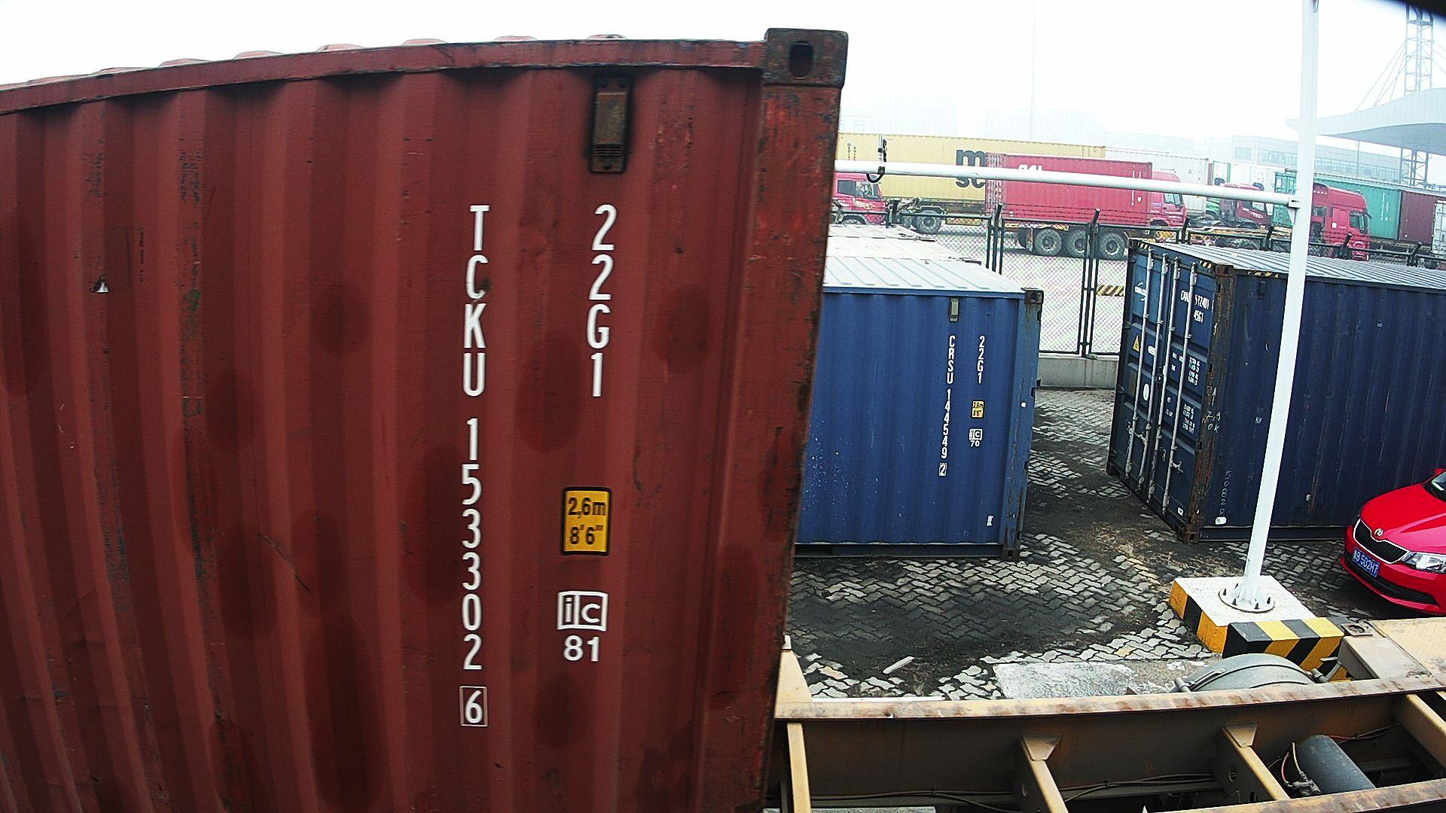container-numbers: (447, 199, 493, 733), (576, 199, 624, 405), (934, 333, 958, 480), (977, 333, 989, 385)
